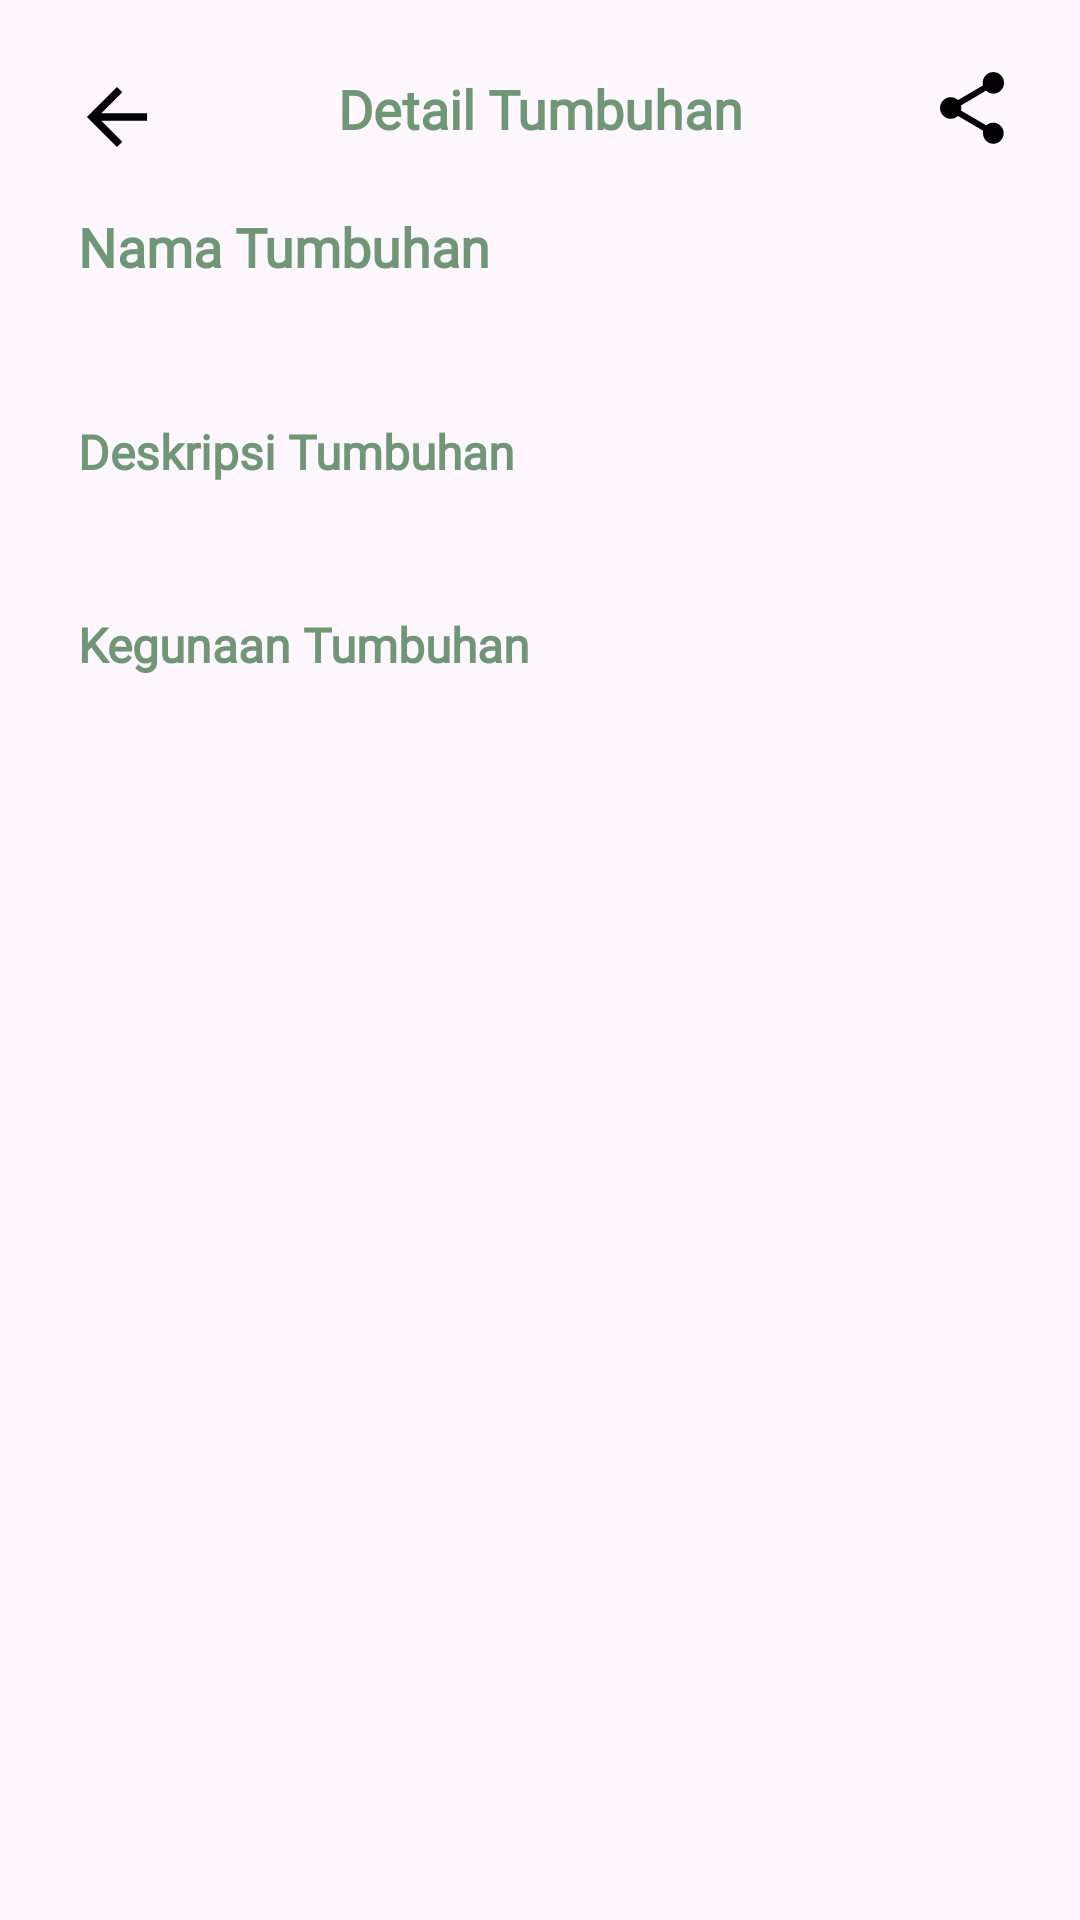

Icons on this 1080 × 1920 Android screen, each with the point to tap as (x=x, y=y):
gambar ic arrow back: (x=117, y=117)
gambar ic share: (x=972, y=108)
